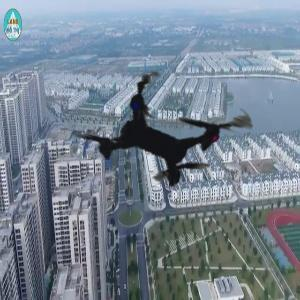drone: (34, 7, 293, 266)
